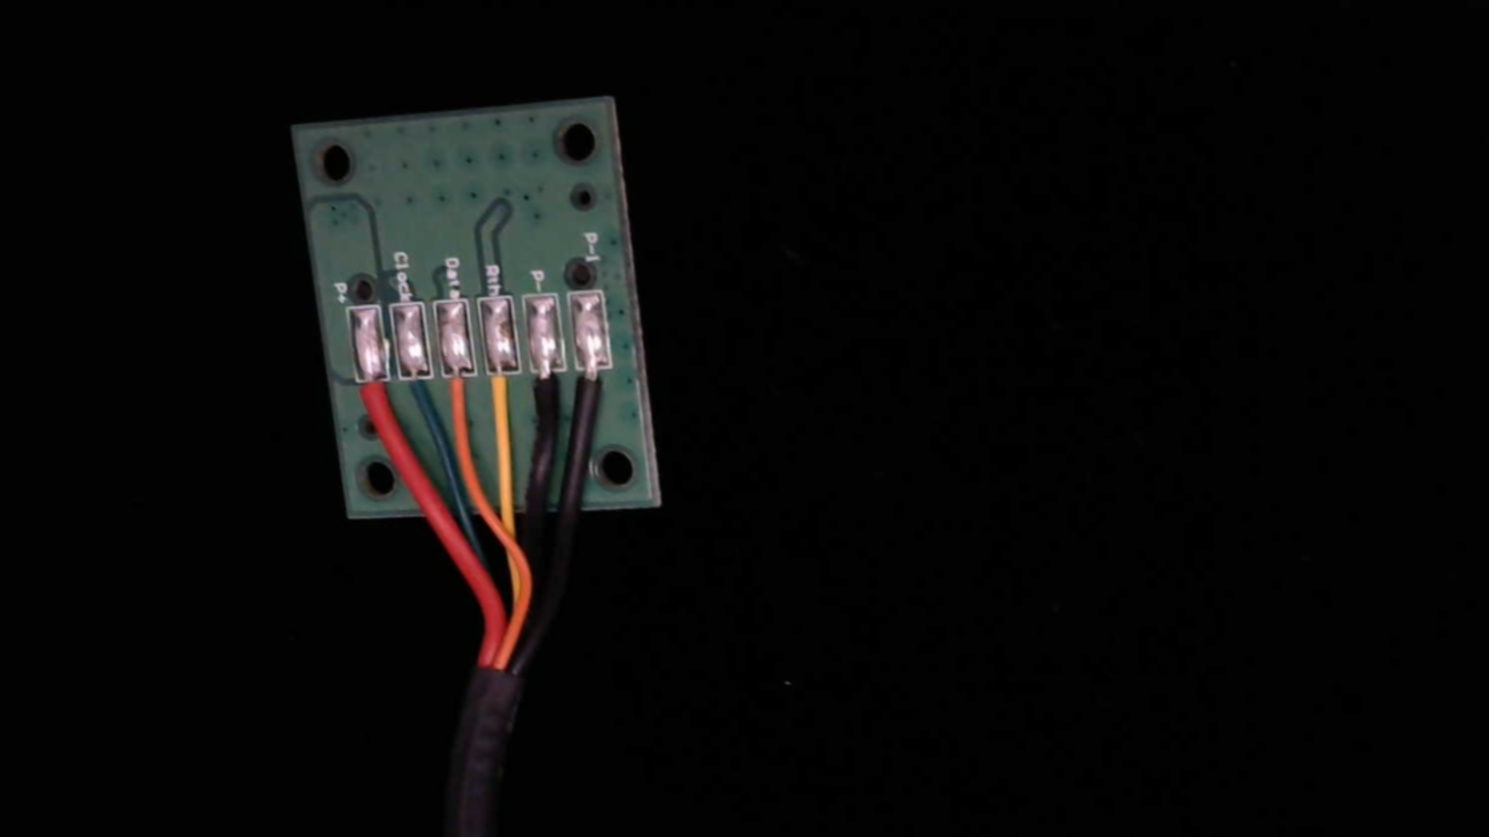Black: (529, 353, 565, 430)
Black1: (573, 353, 614, 428)
Green: (394, 363, 442, 419)
Orange: (438, 359, 479, 423)
Red: (348, 364, 396, 416)
Yellow: (483, 355, 523, 424)
